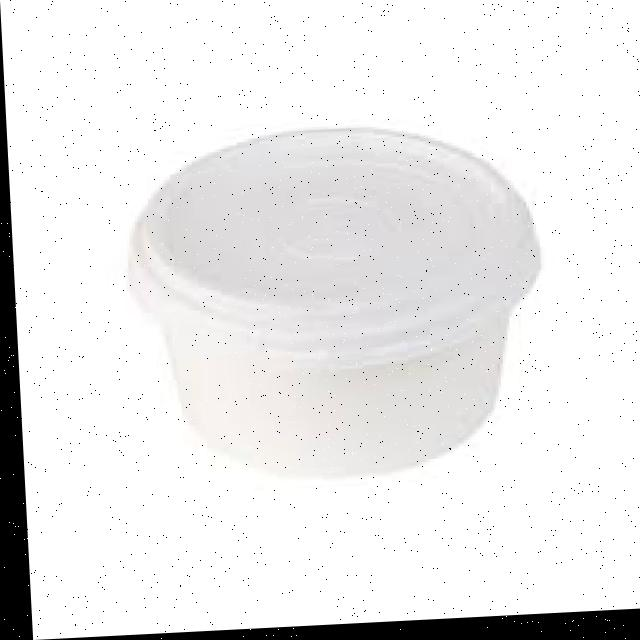disposable: (103, 112, 556, 504)
